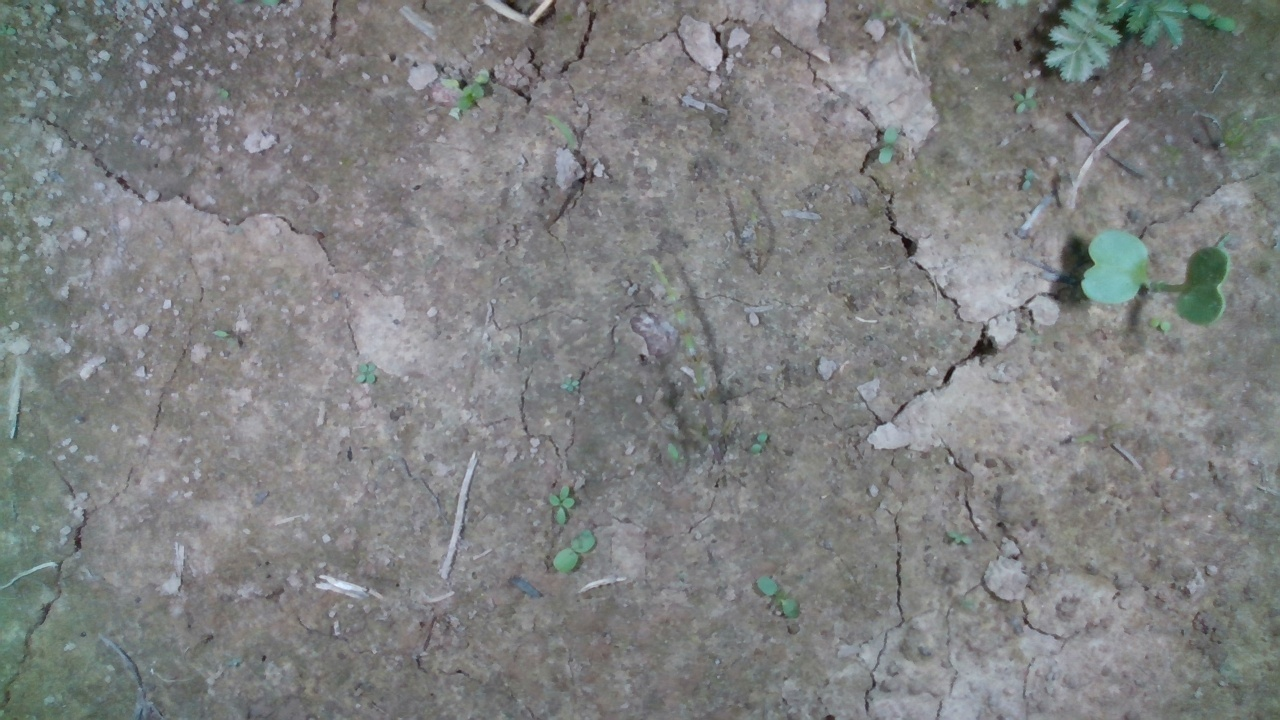weed: (755, 574, 803, 621), (552, 527, 596, 575), (548, 484, 576, 525), (1009, 84, 1039, 116), (877, 123, 898, 166), (354, 360, 378, 385), (750, 430, 769, 456), (1147, 316, 1171, 333)
